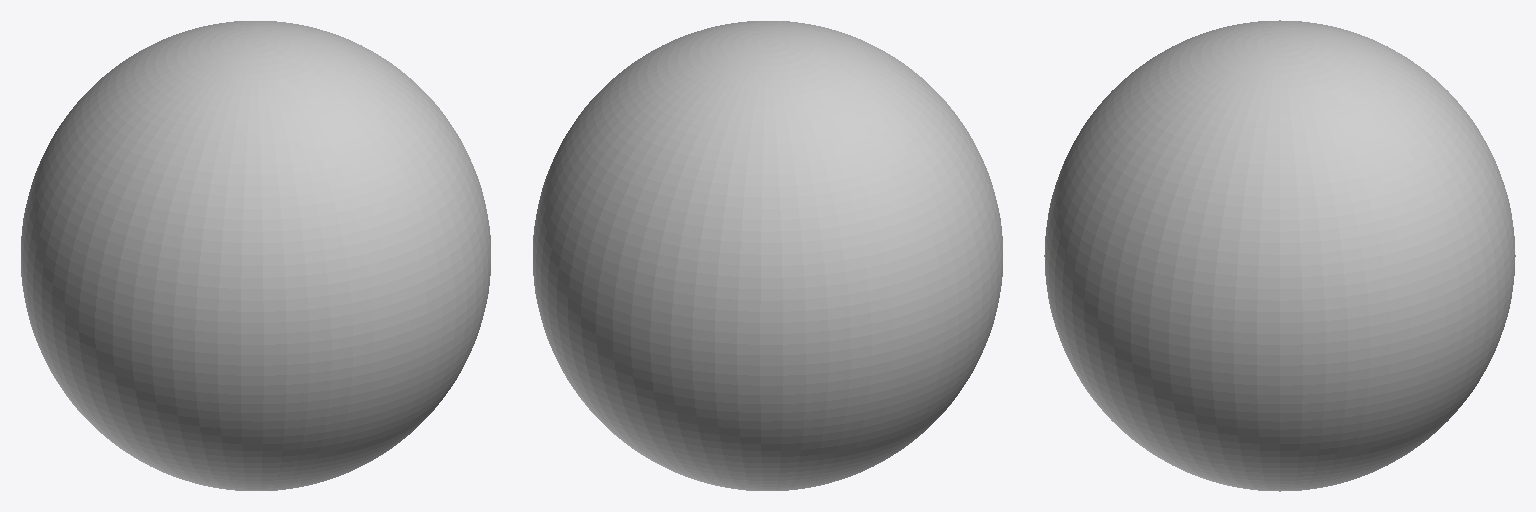
Rendered from SphereInv.obj.
3 views of the same model, side by side, from view 1: azimuth 30°, elevation 25°; view 2: azimuth 150°, elevation 25°; view 3: azimuth 270°, elevation 25° (orthographic).
Parts seen in each view (by area): view 1: sphere_3; view 2: sphere_3; view 3: sphere_3.
Boxes of the visible parts, box(x1,y1,x2,y2) form: sphere_3: box(21, 21, 490, 490); sphere_3: box(533, 21, 1002, 490); sphere_3: box(1044, 20, 1515, 491).
Bounding box in the file's own units: 2 × 2 × 2.